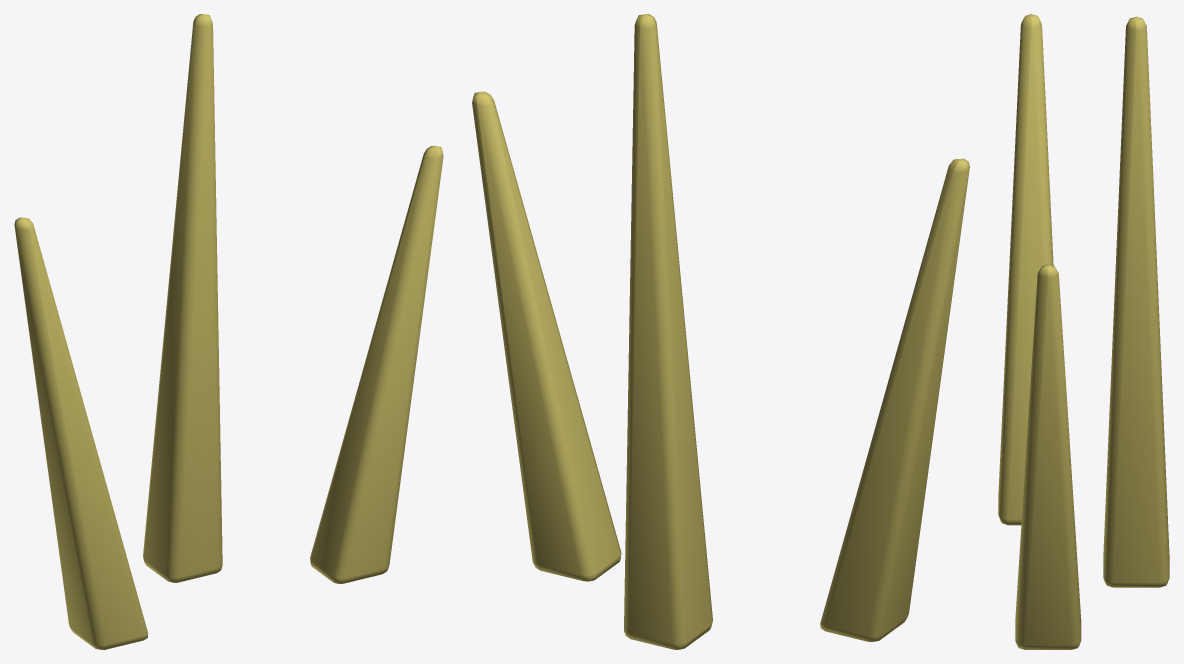
Rendered from stalk.glb.
The picture shows the model from 3 angles, left to right: view 1: azimuth 30°, elevation 25°; view 2: azimuth 150°, elevation 25°; view 3: azimuth 270°, elevation 25°; orthographic projection. The views are drawn at different scales.
Parts seen in each view (by area): view 1: Stalk_Blades; view 2: Stalk_Blades; view 3: Stalk_Blades.
Boxes of the visible parts, bbox=[...] form: Stalk_Blades: bbox=[14, 14, 443, 649]; Stalk_Blades: bbox=[472, 14, 969, 649]; Stalk_Blades: bbox=[998, 14, 1169, 649].
Size of the model in its own units: 0.248 by 0.3 by 0.0816.
